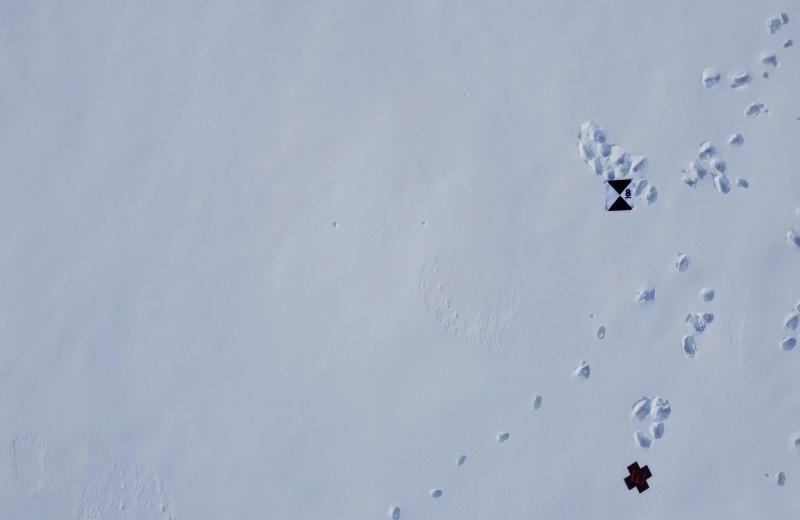Cross: (622, 457, 654, 498)
